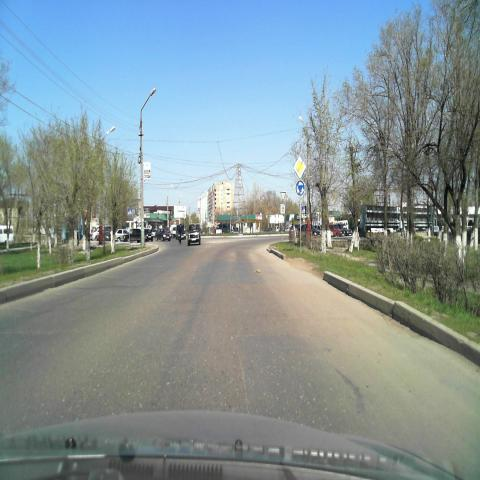4_3: (296, 180, 304, 196)
